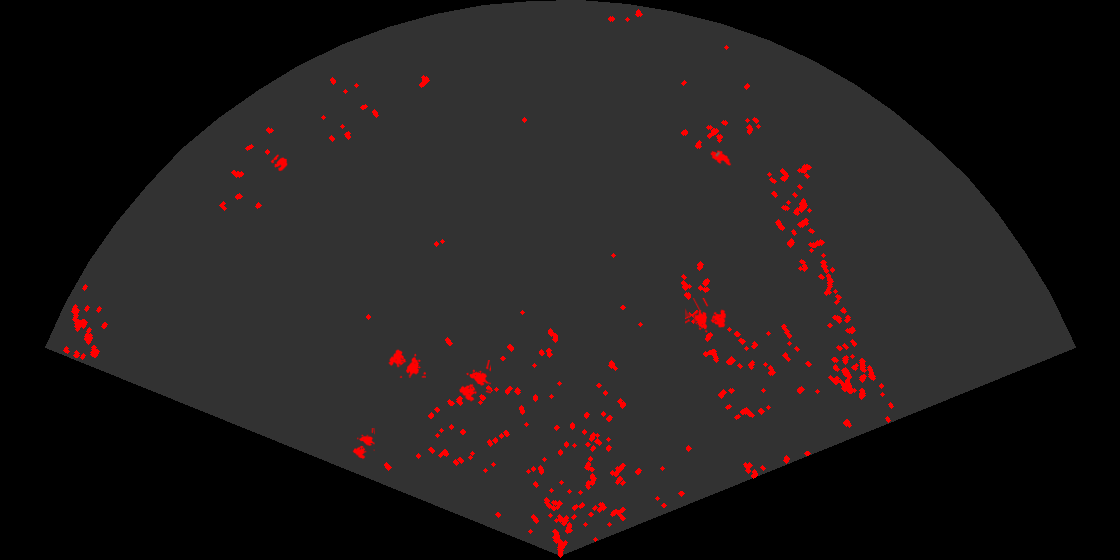AUV: (709, 149, 733, 167)
ball: (269, 153, 289, 173)
cage: (685, 298, 728, 334), (458, 360, 491, 403), (387, 348, 426, 378), (351, 428, 375, 461)
